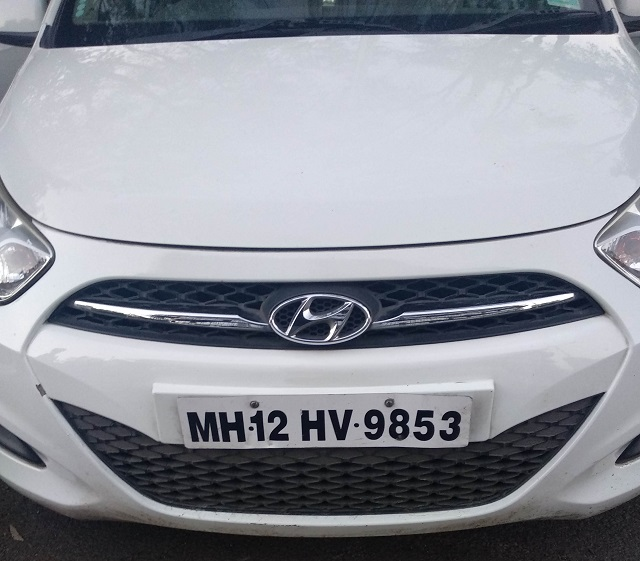licenseplate: (172, 388, 479, 451)
